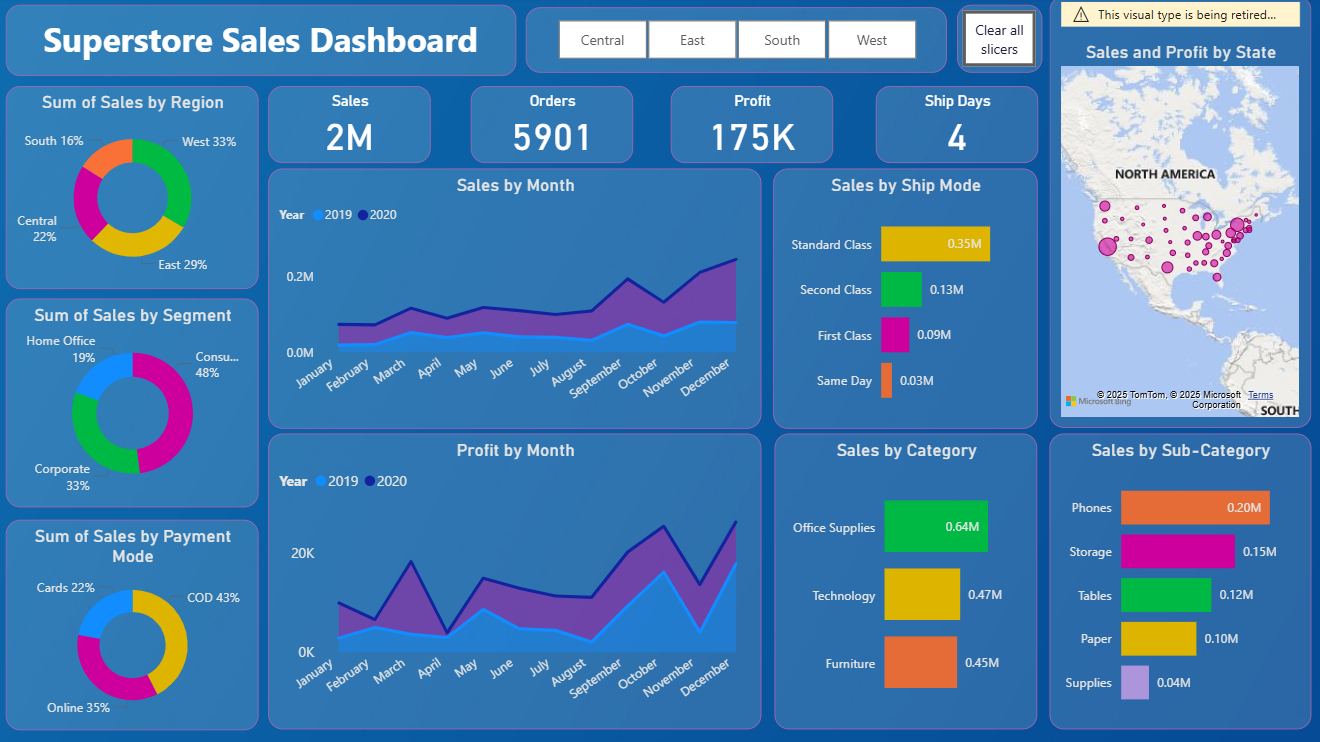

What the dashboard file says about the page in this screenshot:
{"tool":"powerbi","page":{"name":"Page 1","canvas":[1280,720],"ordinal":0},"visuals":[{"type":"clusteredBarChart","title":"Sales by Category","fields":{"Category":["SuperStore_Sales_Dataset.Category"],"Y":["Sum(SuperStore_Sales_Dataset.Sales)"]},"box":[750.6,422.6,253.9,285.4],"z":0},{"type":"clusteredBarChart","title":"Sales by Sub-Category","fields":{"Y":["Sum(SuperStore_Sales_Dataset.Sales)"],"Category":["SuperStore_Sales_Dataset.Sub-Category"]},"box":[1015.4,422.6,252.5,285.4],"z":1000},{"type":"clusteredBarChart","title":"Sales by Ship Mode","fields":{"Y":["Sum(SuperStore_Sales_Dataset.Sales)"],"Category":["SuperStore_Sales_Dataset.Ship Mode"]},"box":[749.2,166,255.2,251.1],"z":2000},{"type":"stackedAreaChart","title":"Sales by YoY","fields":{"Category":["SuperStore_Sales_Dataset.Order Date.Variation.Date Hierarchy.Month","SuperStore_Sales_Dataset.Order Date.Variation.Date Hierarchy.Day"],"Y":["Sum(SuperStore_Sales_Dataset.Sales)"],"Series":["SuperStore_Sales_Dataset.Order Date.Variation.Date Hierarchy.Year"]},"box":[262.1,166,476.2,251.1],"z":3000},{"type":"stackedAreaChart","title":"Profit by YoY","fields":{"Category":["SuperStore_Sales_Dataset.Order Date.Variation.Date Hierarchy.Month","SuperStore_Sales_Dataset.Order Date.Variation.Date Hierarchy.Day"],"Series":["SuperStore_Sales_Dataset.Order Date.Variation.Date Hierarchy.Year"],"Y":["Sum(SuperStore_Sales_Dataset.Profit)"]},"box":[262.1,422.6,476.2,285.4],"z":4000},{"type":"map","title":"Sales and Profit by State","fields":{"Category":["SuperStore_Sales_Dataset.State"],"Size":["Sum(SuperStore_Sales_Dataset.Sales)"]},"box":[1015.4,0,252.5,417.2],"z":5000},{"type":"donutChart","fields":{"Category":["SuperStore_Sales_Dataset.Segment"],"Y":["Sum(SuperStore_Sales_Dataset.Sales)"]},"box":[8.2,292.3,244.3,201.7],"z":6000},{"type":"donutChart","fields":{"Category":["SuperStore_Sales_Dataset.Payment Mode"],"Y":["Sum(SuperStore_Sales_Dataset.Sales)"]},"box":[8.2,505,244.3,203.1],"z":7000},{"type":"slicer","fields":{"Values":["SuperStore_Sales_Dataset.Region"]},"box":[510.5,11,406.2,63.1],"z":8000},{"type":"textbox","box":[8.2,8.2,492.6,68.6],"z":9000},{"type":"card","title":"Sales","fields":{"Values":["Sum(SuperStore_Sales_Dataset.Sales)"]},"box":[262.1,86.4,156.4,74.1],"z":10000},{"type":"card","title":"Orders","fields":{"Values":["CountNonNull(SuperStore_Sales_Dataset.Order ID)"]},"box":[456.9,86.4,156.4,74.1],"z":11000},{"type":"card","title":"Profit","fields":{"Values":["Sum(SuperStore_Sales_Dataset.Profit)"]},"box":[650.4,86.4,156.4,74.1],"z":12000},{"type":"card","title":"Ship Days","fields":{"Values":["Avg(SuperStore_Sales_Dataset.avgdelivery)"]},"box":[848,86.4,156.4,74.1],"z":13000},{"type":"donutChart","fields":{"Y":["Sum(SuperStore_Sales_Dataset.Sales)"],"Category":["SuperStore_Sales_Dataset.Region"]},"box":[8.2,86.4,244.3,196.2],"z":14000},{"type":"actionButton","box":[926.2,8.2,82.3,65.9],"z":15000}]}

Visuals, with their boxes in screenshot pixels (x1, y1, x2, y2), scaled from the page's 1280x720 canvas onto the 1320x742 screenshot:
"Sales by Category" clusteredBarChart: bbox=[774, 436, 1036, 730]
"Sales by Sub-Category" clusteredBarChart: bbox=[1047, 436, 1308, 730]
"Sales by Ship Mode" clusteredBarChart: bbox=[773, 171, 1036, 430]
"Sales by YoY" stackedAreaChart: bbox=[270, 171, 761, 430]
"Profit by YoY" stackedAreaChart: bbox=[270, 436, 761, 730]
"Sales and Profit by State" map: bbox=[1047, 0, 1308, 430]
donutChart - SuperStore_Sales_Dataset.Segment x Sum(SuperStore_Sales_Dataset.Sales): bbox=[8, 301, 260, 509]
donutChart - SuperStore_Sales_Dataset.Payment Mode x Sum(SuperStore_Sales_Dataset.Sales): bbox=[8, 520, 260, 730]
slicer - SuperStore_Sales_Dataset.Region: bbox=[526, 11, 945, 76]
textbox: bbox=[8, 8, 516, 79]
"Sales" card: bbox=[270, 89, 432, 165]
"Orders" card: bbox=[471, 89, 632, 165]
"Profit" card: bbox=[671, 89, 832, 165]
"Ship Days" card: bbox=[874, 89, 1036, 165]
donutChart - Sum(SuperStore_Sales_Dataset.Sales) x SuperStore_Sales_Dataset.Region: bbox=[8, 89, 260, 291]
actionButton: bbox=[955, 8, 1040, 76]
